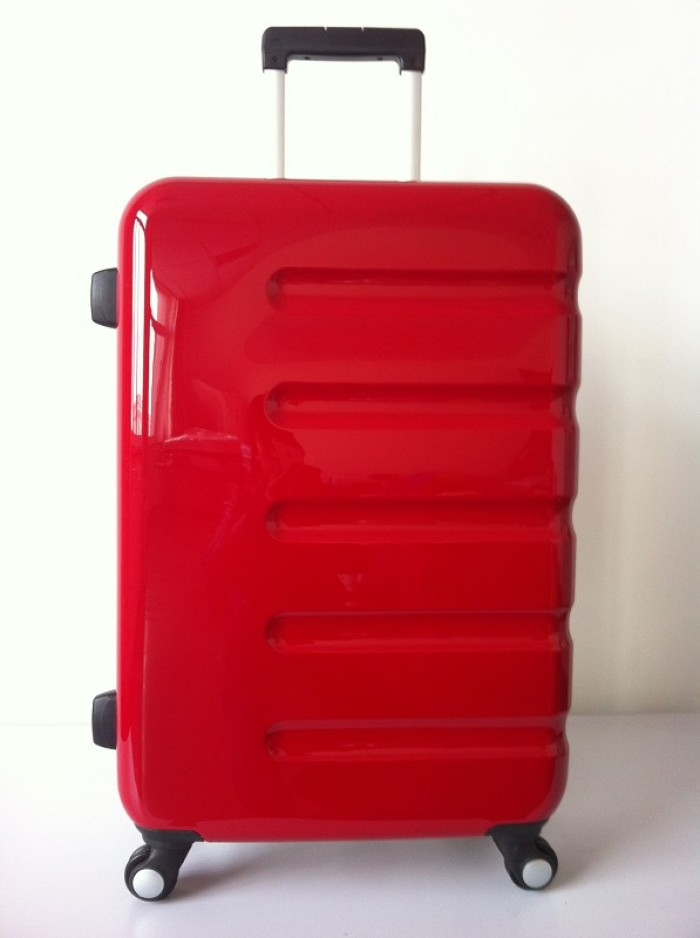luggage: (89, 27, 586, 902)
